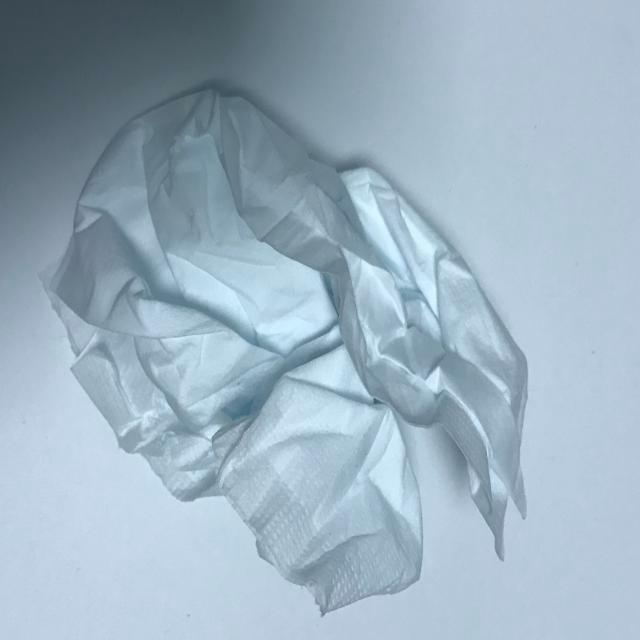paper: (39, 90, 530, 606)
